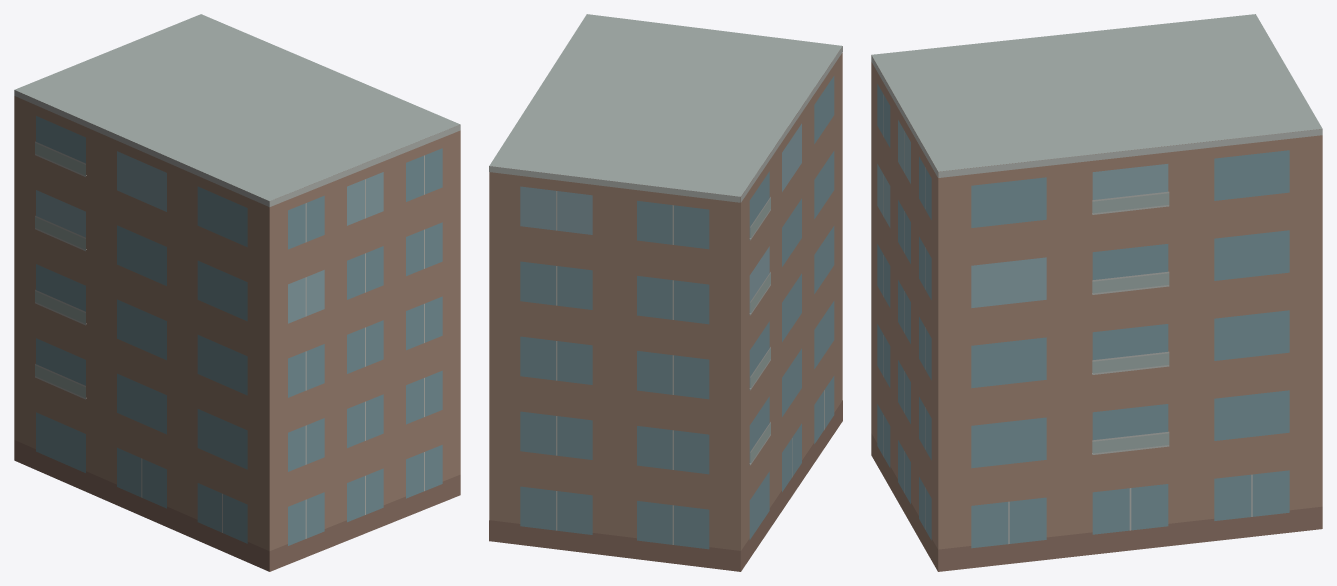
File: survey-upis-33002731.glb
3 views of the same model, side by side, from view 1: azimuth 30°, elevation 25°; view 2: azimuth 150°, elevation 25°; view 3: azimuth 270°, elevation 25° (orthographic). The views are drawn at different scales.
Visible parts, largest first — view 1: survey-upis-33002731.tmp; view 2: survey-upis-33002731.tmp; view 3: survey-upis-33002731.tmp.
Part boxes in pixels (box(x1,y1,x2,y2)): survey-upis-33002731.tmp: box(14, 14, 460, 571); survey-upis-33002731.tmp: box(489, 14, 842, 571); survey-upis-33002731.tmp: box(871, 14, 1322, 571).
Size of the model in its own units: 12.85 by 15.2 by 15.55.
